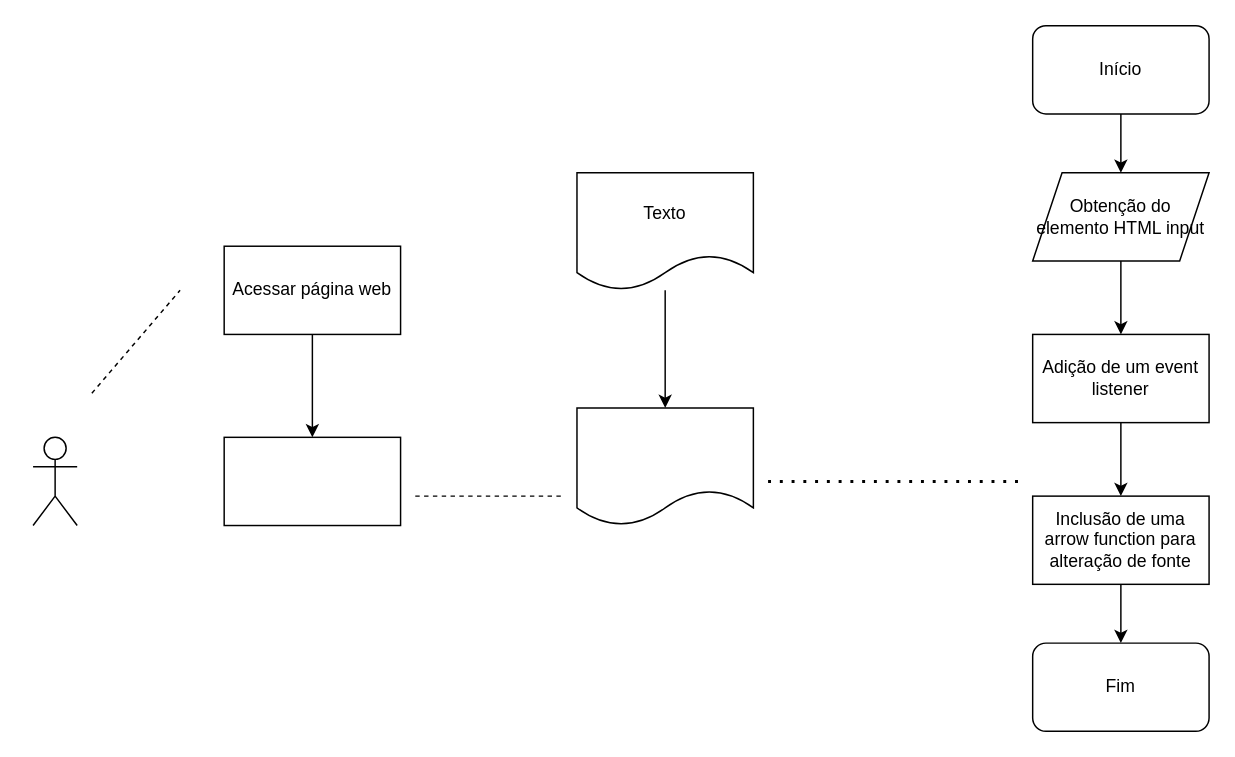
Image size: 1235x757. Some labels were removed from this diagram. The shapes that lost their labels are listed below. From the top down, each one's centre as x and y in pixels, then its label:
point 54,481: Usuário
point 312,481: Clicar no botão indicado para alteração de fonte
point 664,466: Botão que alterará fonte do texto assim que for clicado
